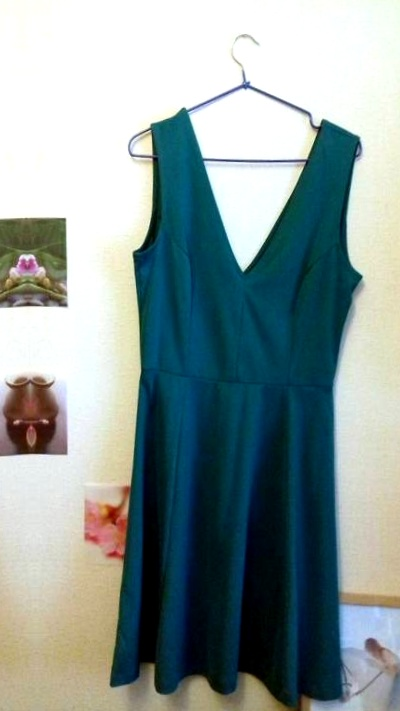Dress: (89, 73, 400, 709)
